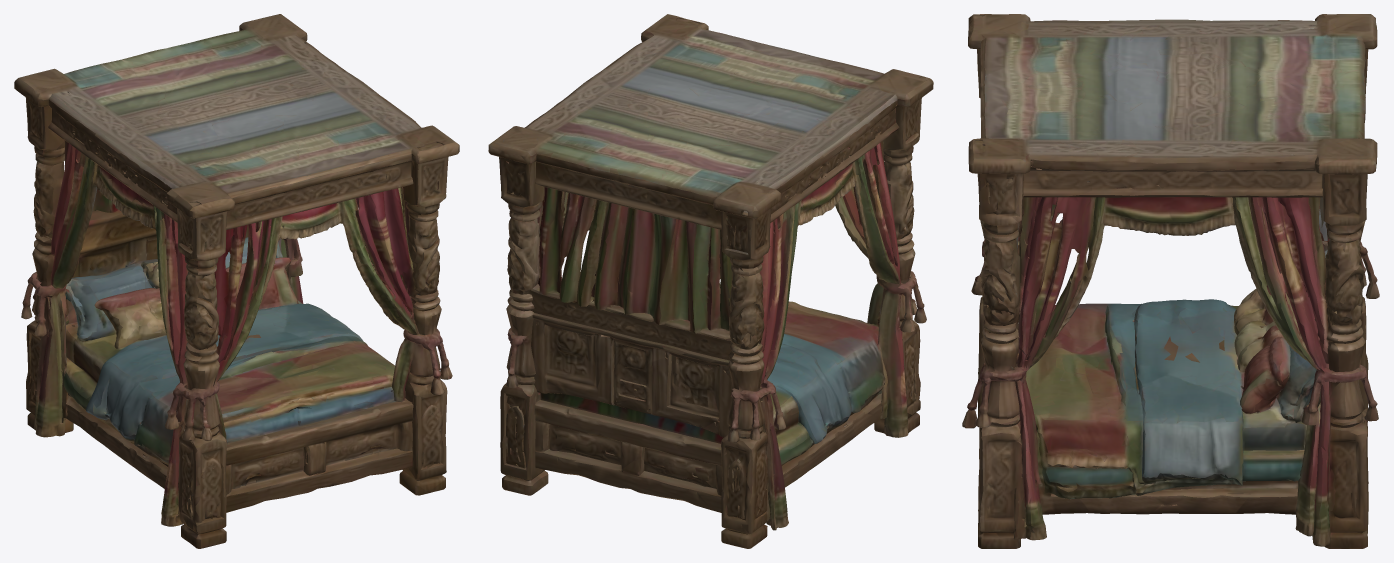
Rendered from bed.glb.
3 views of the same model, side by side, from view 1: azimuth 30°, elevation 25°; view 2: azimuth 150°, elevation 25°; view 3: azimuth 270°, elevation 25° (orthographic). The views are drawn at different scales.
Parts seen in each view (by area): view 1: geometry_0; view 2: geometry_0; view 3: geometry_0.
Boxes of the visible parts, <box> form: geometry_0: <box>14,14,459,548</box>; geometry_0: <box>488,14,933,548</box>; geometry_0: <box>962,14,1379,548</box>.
Bounding box in the file's own units: 2.09 × 2.5 × 2.4.
Materials: 1 (1 with a texture image).
